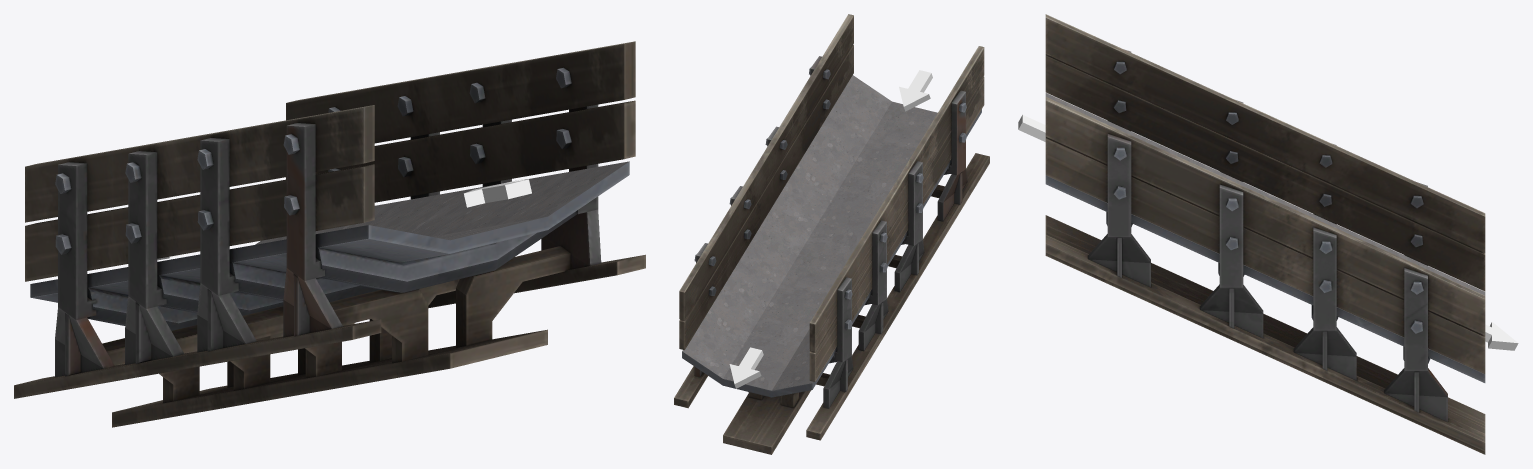
The model's file is WallConveyor_Down.glb.
The picture shows the model from 3 angles, left to right: view 1: azimuth 30°, elevation 25°; view 2: azimuth 150°, elevation 25°; view 3: azimuth 270°, elevation 25°; orthographic projection. The views are drawn at different scales.
Visible parts, largest first — view 1: WallConveyor_Down, ghostarrow; view 2: WallConveyor_Down, ghostarrow, ghostarrow (1); view 3: WallConveyor_Down, ghostarrow (1).
Boxes of the visible parts, left/top/right/bottom form: WallConveyor_Down: left=14, top=41, right=645, bottom=427; ghostarrow: left=464, top=179, right=531, bottom=207; WallConveyor_Down: left=674, top=14, right=989, bottom=454; ghostarrow: left=899, top=70, right=932, bottom=111; ghostarrow (1): left=729, top=347, right=763, bottom=388; WallConveyor_Down: left=1045, top=14, right=1485, bottom=454; ghostarrow (1): left=1485, top=322, right=1518, bottom=350.
Size of the model in its own units: 1.04 by 1.92 by 2.28.
Materials: 3 (2 with a texture image).
